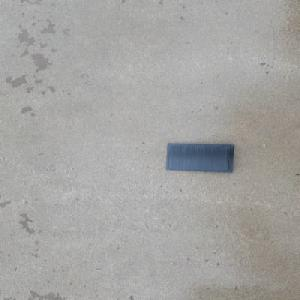PlasticPart: (165, 142, 238, 172)
